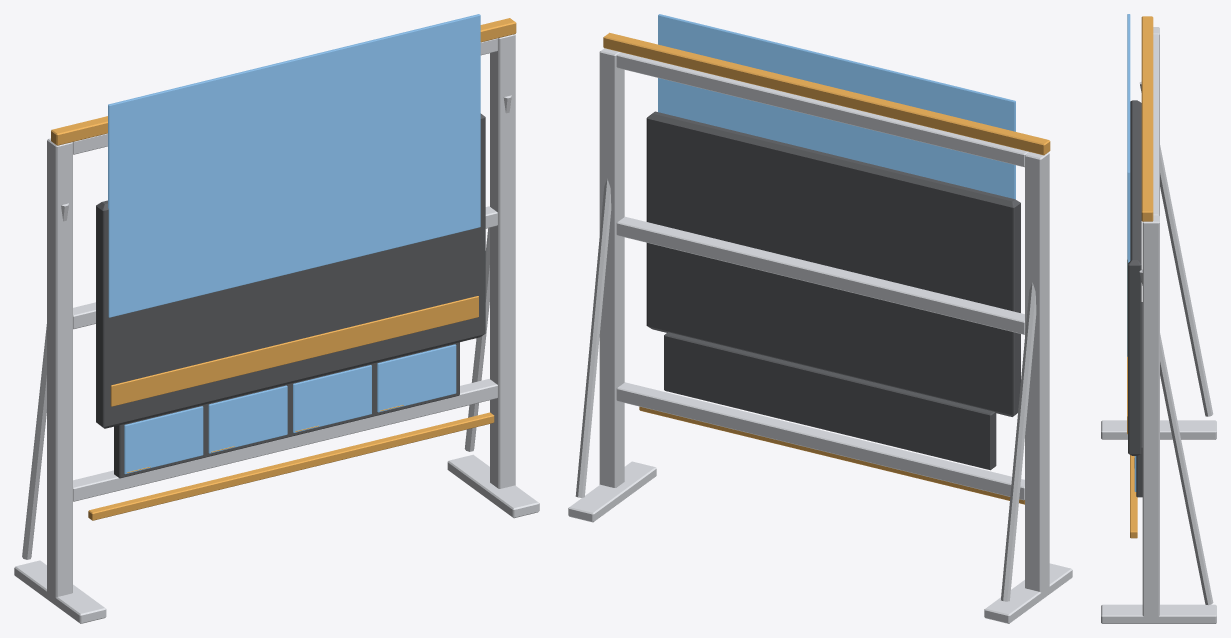
Rendered from 35517_Gallery_Monitor_Wall__TV_Studio_and_Broadcast_Gallery_.glb.
3 views of the same model, side by side, from view 1: azimuth 30°, elevation 25°; view 2: azimuth 150°, elevation 25°; view 3: azimuth 270°, elevation 25° (orthographic). The views are drawn at different scales.
Parts seen in each view (by area): view 1: monitor-wall-frame; view 2: monitor-wall-frame; view 3: monitor-wall-frame.
Boxes of the visible parts, x1,y1,x2,y2 form: monitor-wall-frame: [14, 14, 539, 623]; monitor-wall-frame: [568, 14, 1072, 623]; monitor-wall-frame: [1101, 14, 1216, 623].
Size of the model in its own units: 2.4 by 2.48 by 0.6001.
